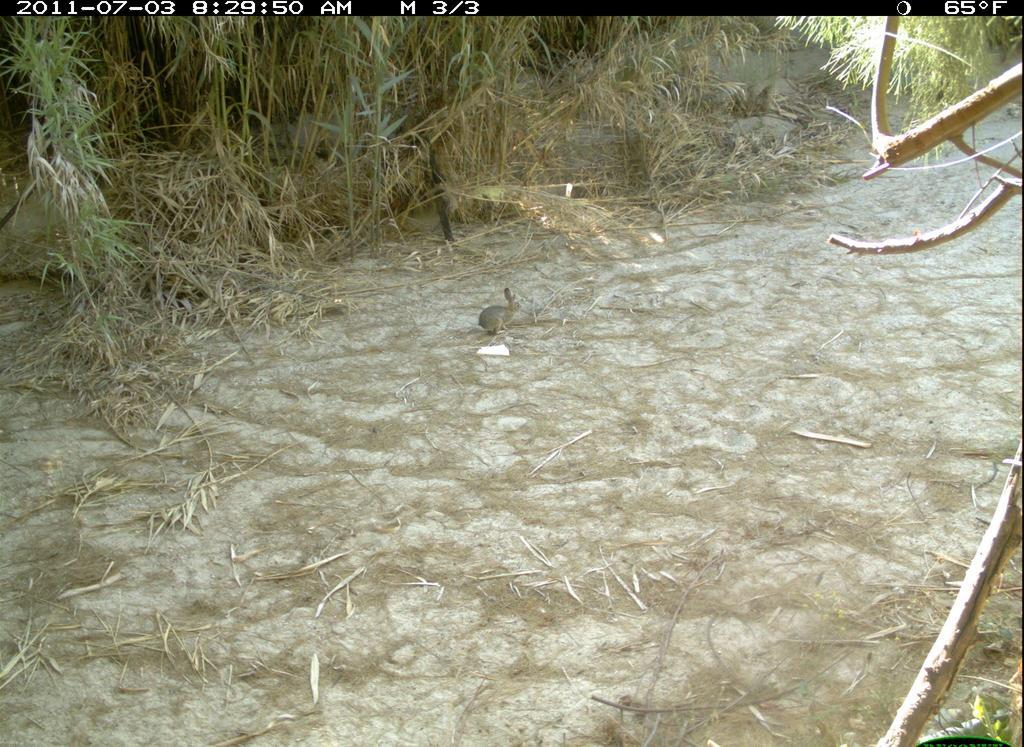rabbit: (464, 281, 528, 349)
